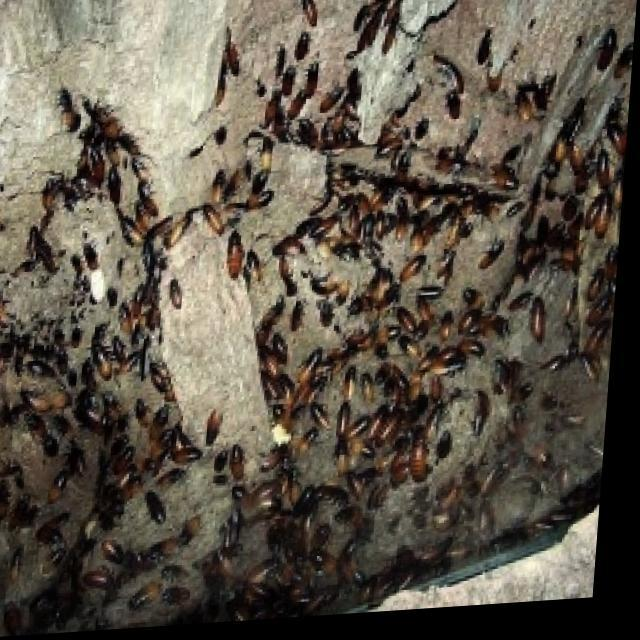cockroach: (85, 333, 121, 384), (411, 427, 435, 488), (525, 296, 547, 362), (438, 82, 470, 126), (467, 389, 495, 438), (594, 186, 616, 248), (123, 583, 166, 614), (274, 257, 304, 301), (596, 27, 622, 75), (227, 230, 251, 281), (476, 238, 512, 272), (142, 486, 172, 526), (428, 354, 474, 380), (46, 464, 73, 508), (165, 208, 195, 247), (204, 405, 230, 448), (198, 204, 229, 238), (226, 439, 248, 486), (474, 27, 496, 72), (121, 216, 147, 254), (135, 178, 158, 220), (294, 426, 324, 457), (301, 341, 323, 383), (306, 214, 340, 241), (164, 276, 188, 314), (182, 508, 206, 545), (262, 88, 284, 128), (411, 282, 451, 304), (435, 306, 457, 344), (398, 303, 419, 342), (77, 238, 101, 272), (514, 84, 534, 124), (383, 18, 404, 56), (305, 61, 324, 102), (400, 254, 427, 282), (362, 366, 378, 413), (461, 279, 483, 311), (169, 446, 202, 467), (287, 302, 310, 332), (291, 34, 314, 64), (260, 341, 278, 377), (259, 134, 274, 176), (225, 46, 244, 79), (341, 363, 357, 402), (336, 402, 352, 440), (213, 164, 227, 205), (419, 298, 436, 328)
